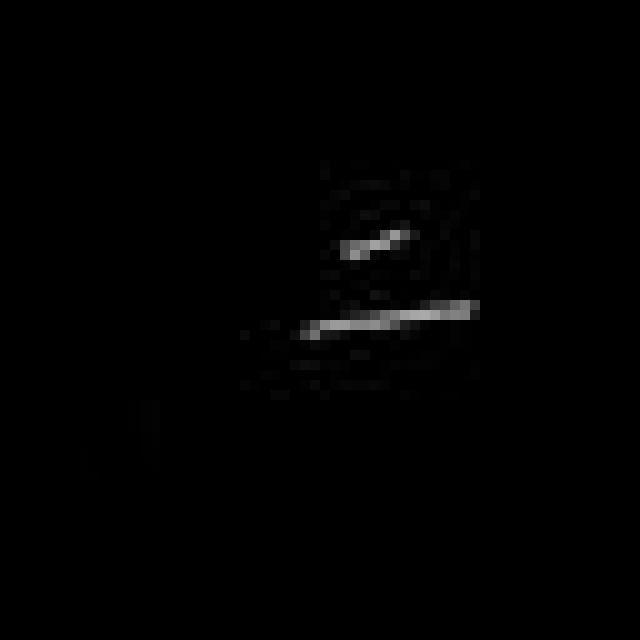2 -two-: (308, 216, 480, 356)
